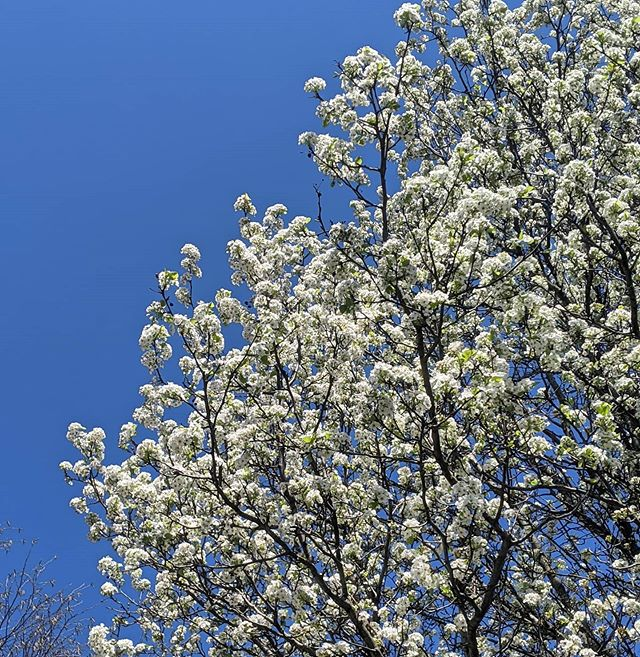sky: (4, 2, 382, 657)
tree: (90, 1, 640, 656)
